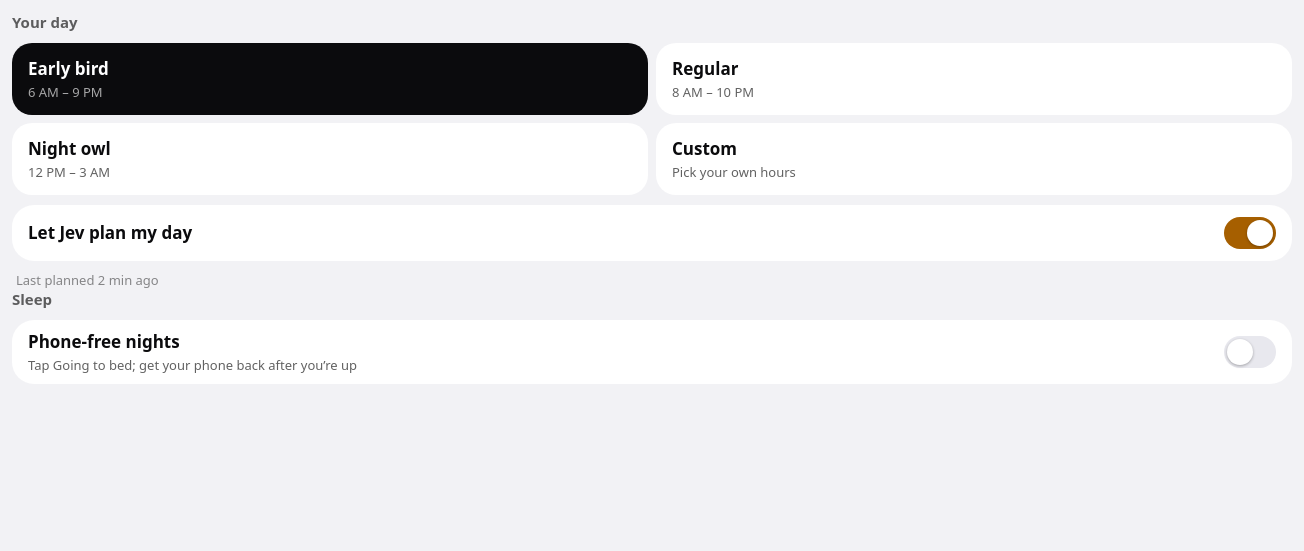
Test case: Sleep settings › turns phone-free nights on and off, keeping the rest of Jev's settings
The image size is (1304, 551).
Check: the switch labelled "Caffeine reminder" is not shown
Click the switch named "Phone-free nights" at (1250, 352), box [1224,336,1276,368]
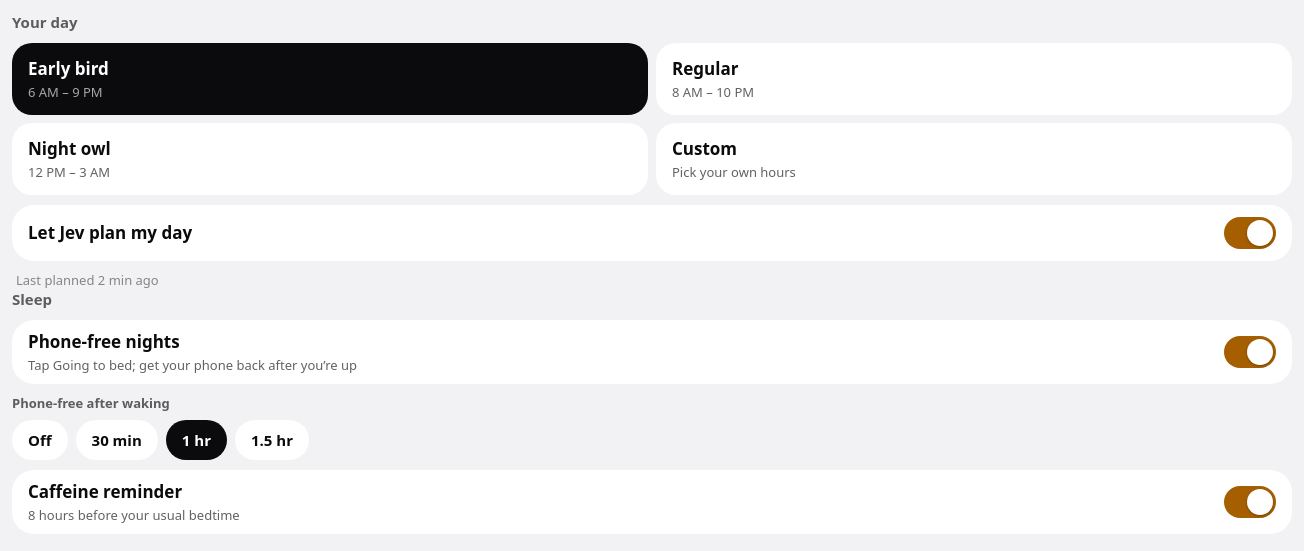
Check: the switch named "Caffeine reminder" is shown, box [1224,486,1276,518]
Click the switch named "Phone-free nights" at (1250, 352), box [1224,336,1276,368]
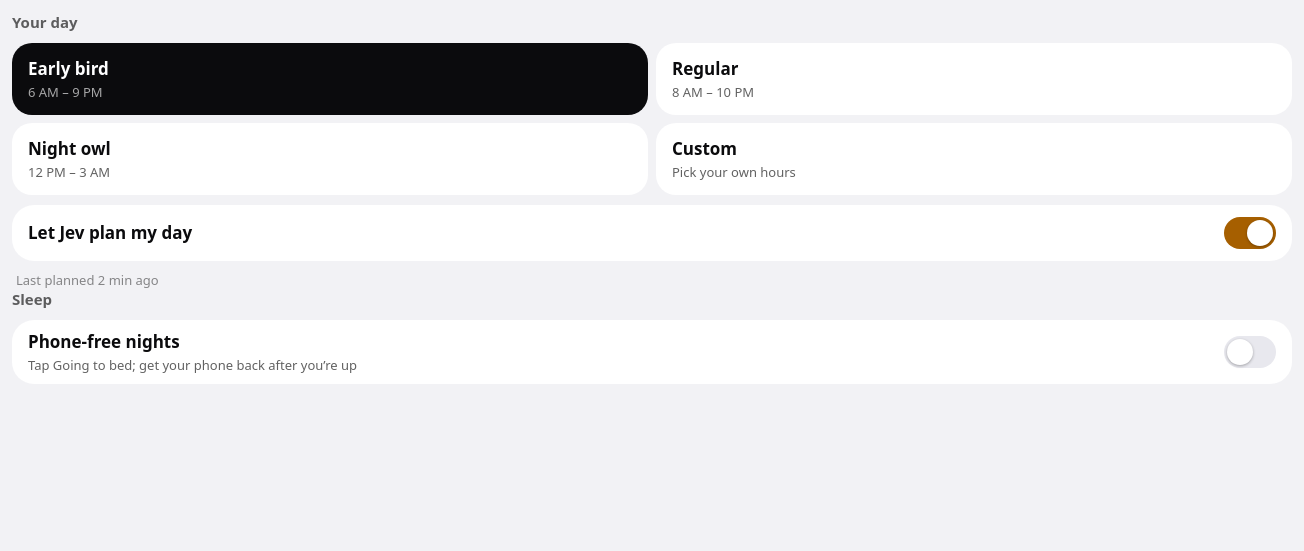
Check: the text "Caffeine reminder" is gone
